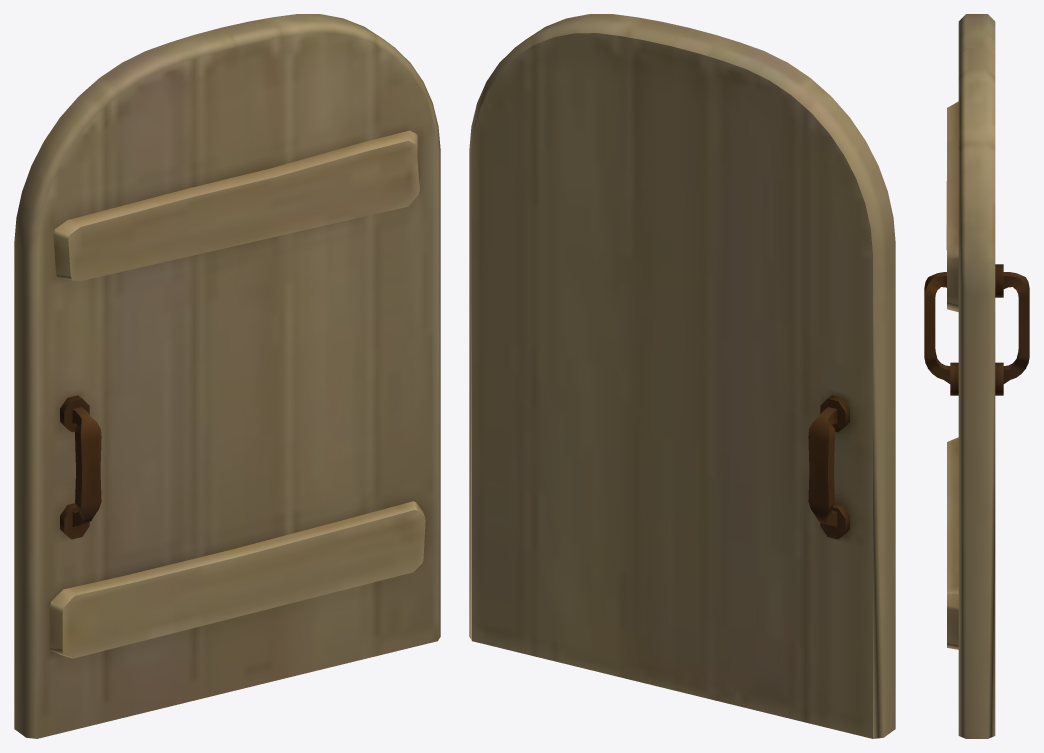
Rendered from door-simplicity-r.glb.
The picture shows the model from 3 angles, left to right: view 1: azimuth 30°, elevation 25°; view 2: azimuth 150°, elevation 25°; view 3: azimuth 270°, elevation 25°; orthographic projection. The views are drawn at different scales.
Bounding box in the file's own units: 12 × 18 × 2.88.
Materials: 1 (1 with a texture image).
